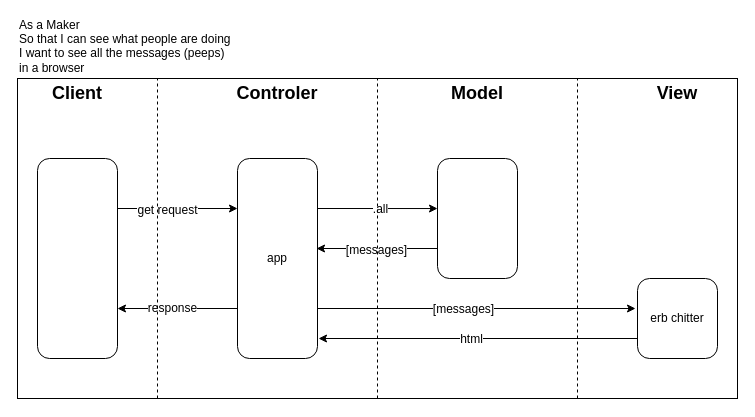
Image size: 755x417. Some labels were removed from this diagram. The shapes that lost their labels are listed below. From the top down, each one's centre as x and y in pixels, then its label:
At (477,218): "Peeps".
At (77,258): "/chitter".
